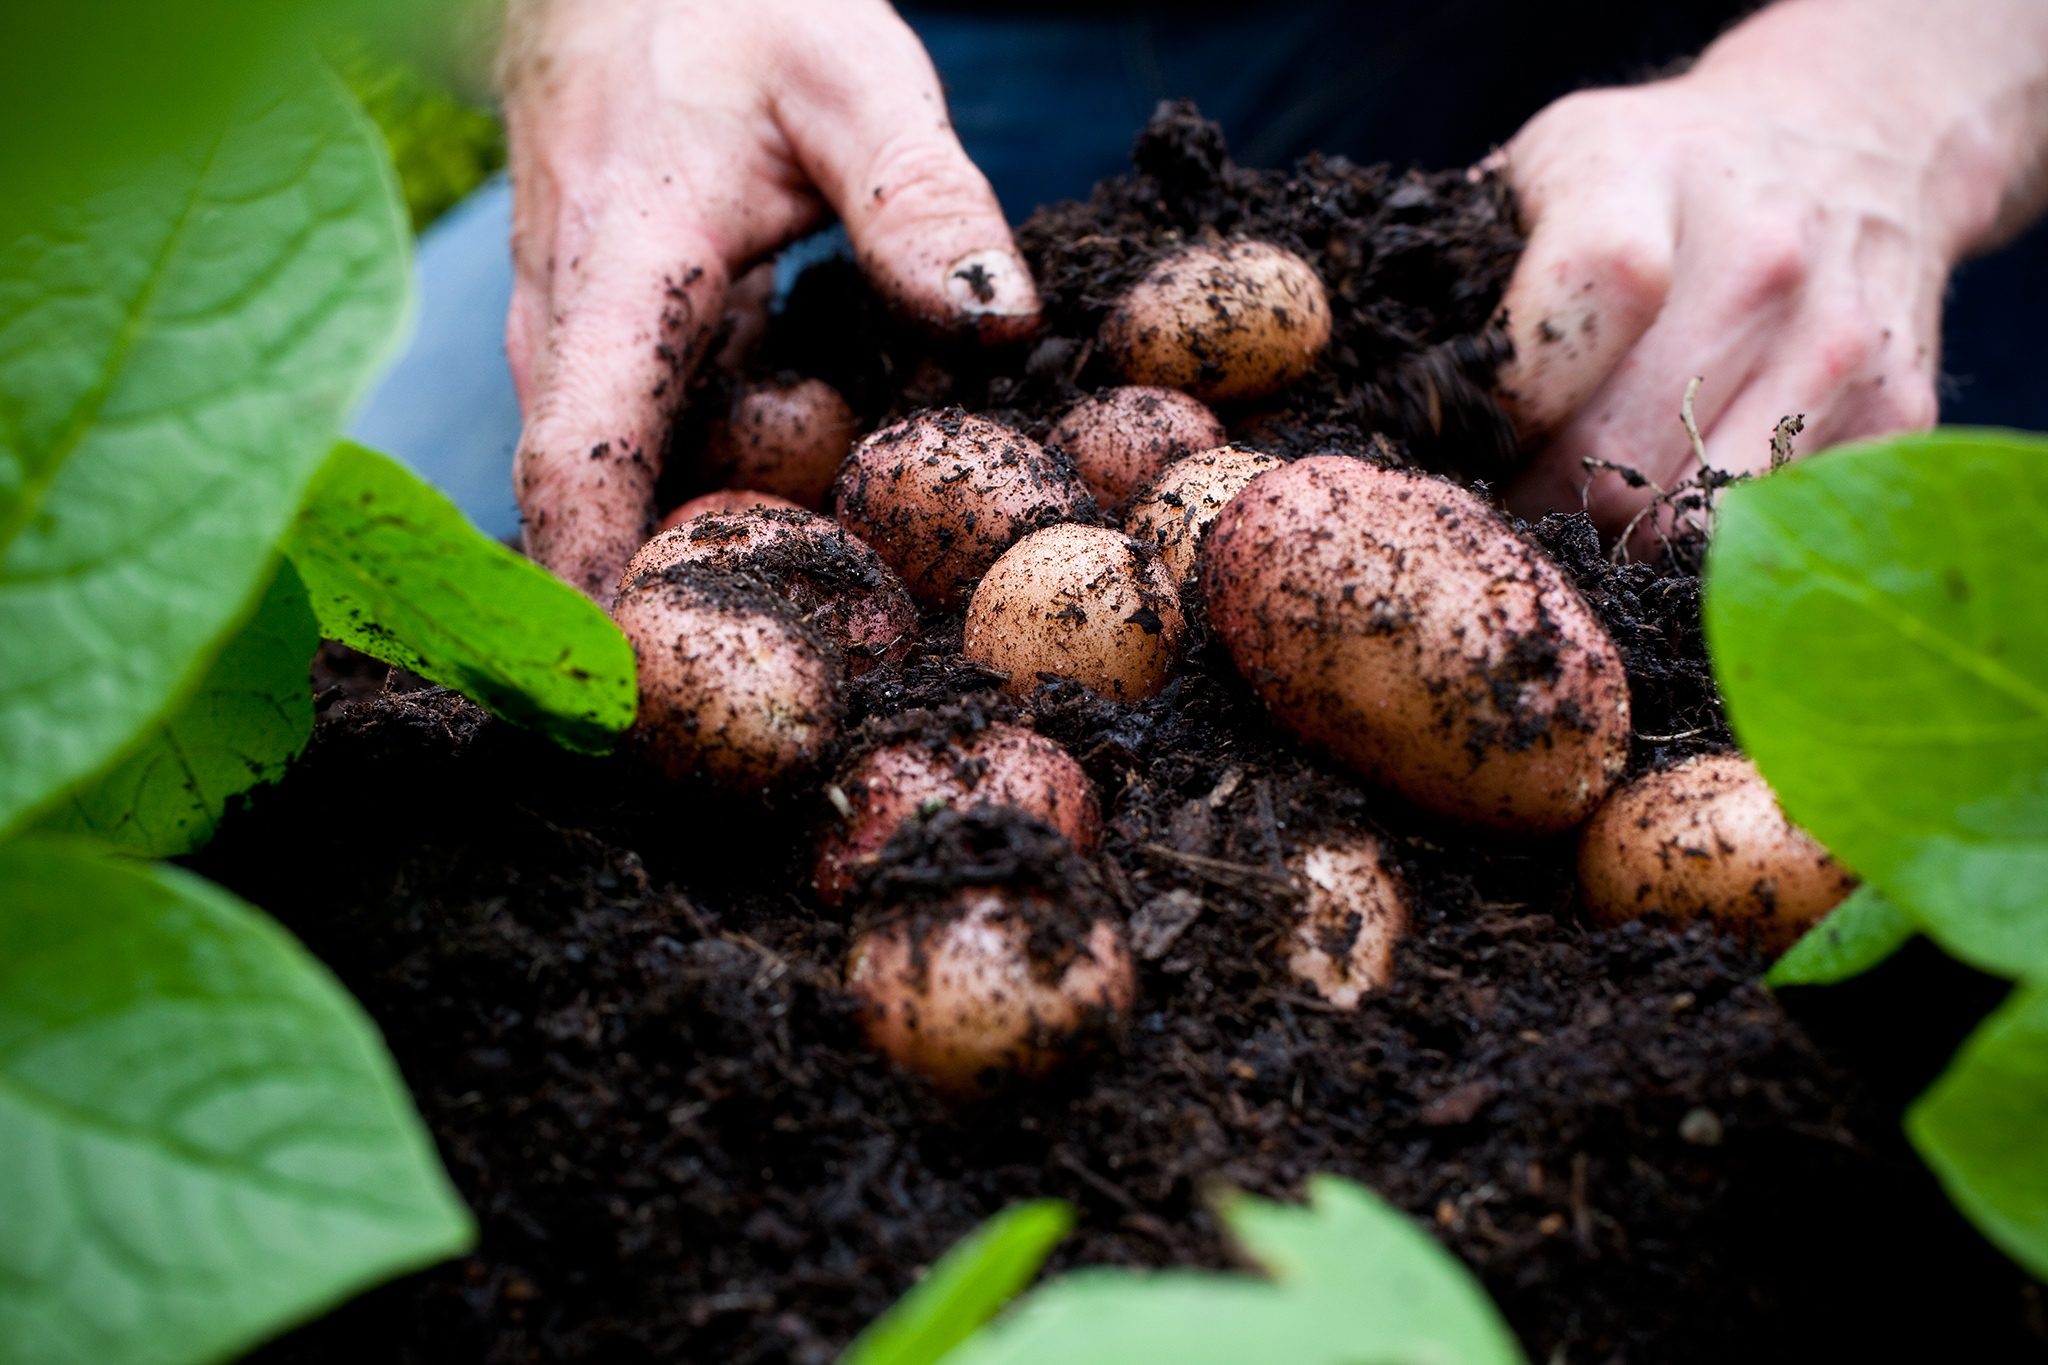potato: (1206, 486, 1678, 865)
